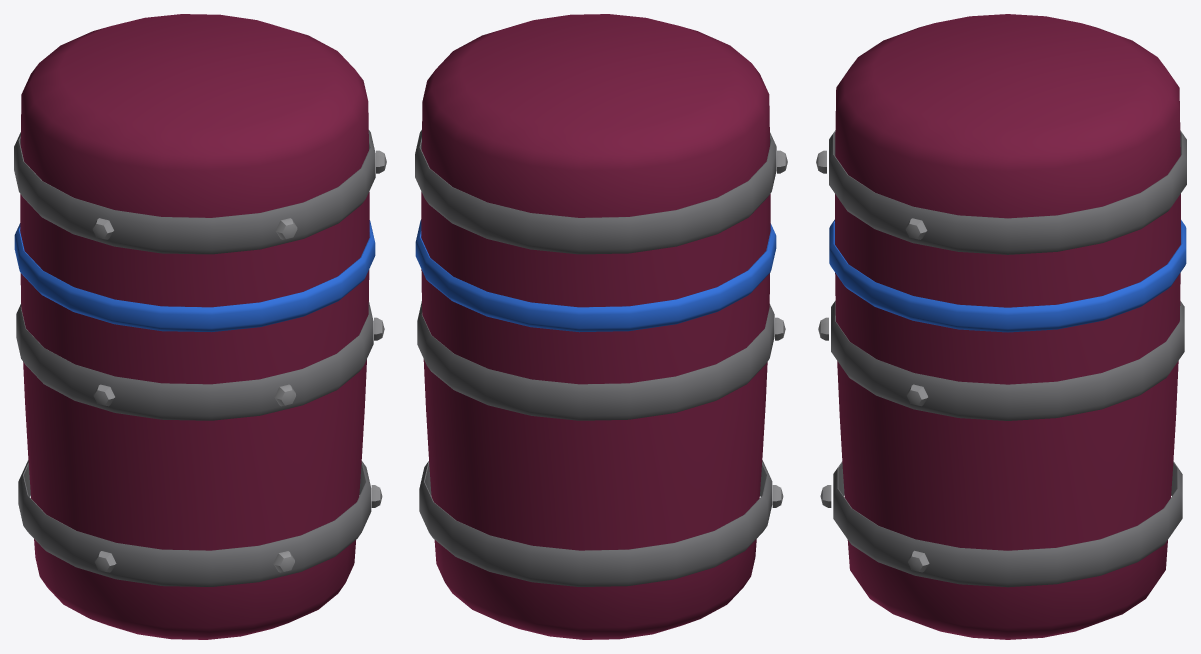
The model's file is Kit_Limb_Thick_L.glb.
The picture shows the model from 3 angles, left to right: view 1: azimuth 30°, elevation 25°; view 2: azimuth 150°, elevation 25°; view 3: azimuth 270°, elevation 25°; orthographic projection.
Visible parts, largest first — view 1: Kit_Limb_Thick_L; view 2: Kit_Limb_Thick_L; view 3: Kit_Limb_Thick_L.
Boxes of the visible parts, x1,y1,x2,y2 form: Kit_Limb_Thick_L: [14, 14, 386, 639]; Kit_Limb_Thick_L: [415, 14, 787, 639]; Kit_Limb_Thick_L: [816, 14, 1186, 639].
Size of the model in its own units: 0.2192 by 0.349 by 0.2247.
